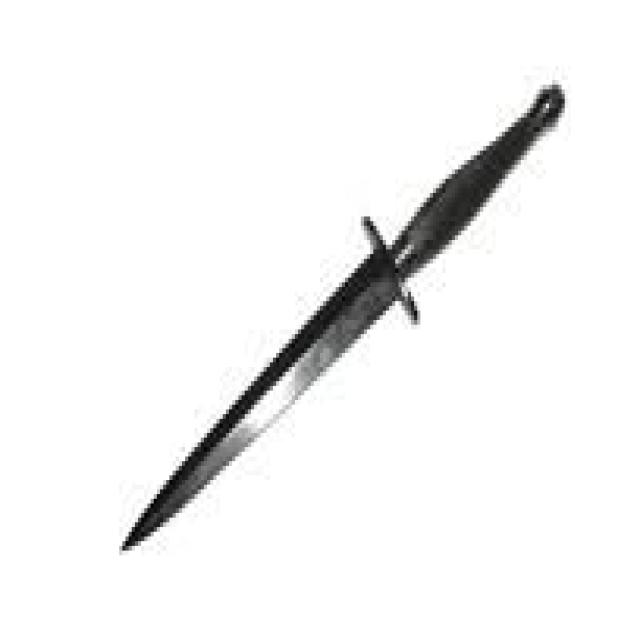Gun: (92, 41, 589, 548)
